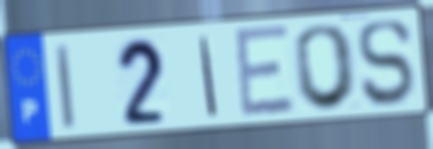2: (114, 31, 174, 132)
E: (231, 22, 298, 122)
I: (53, 40, 77, 133), (197, 34, 220, 119)
O: (292, 21, 361, 114)
S: (355, 16, 415, 110)
